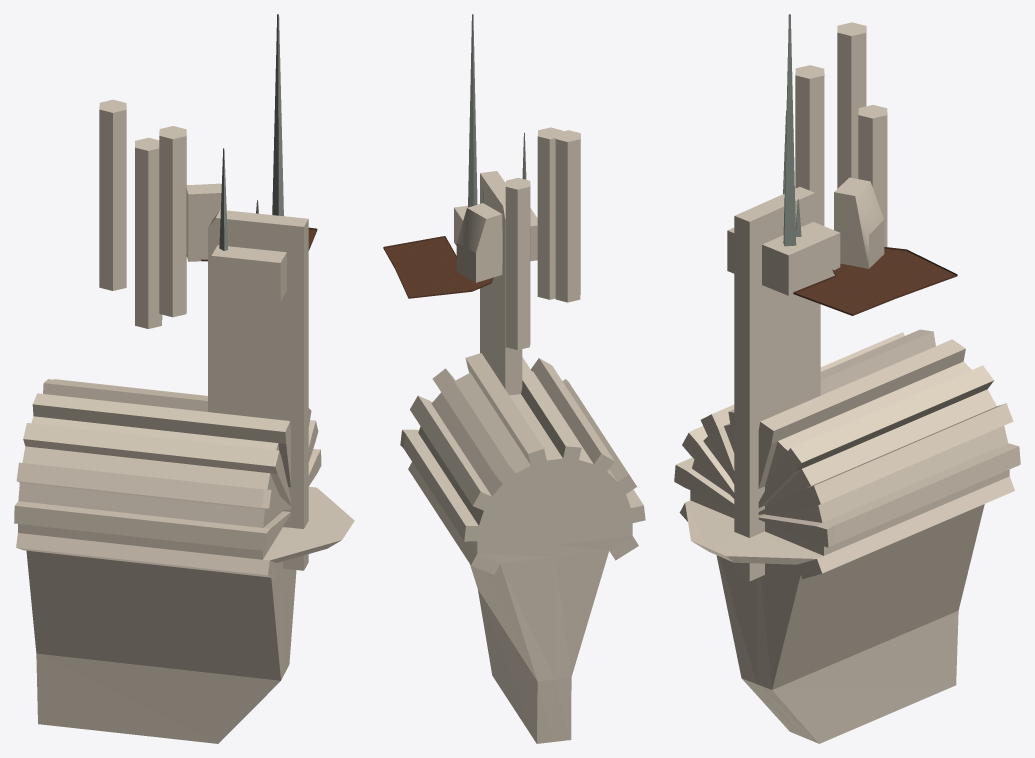
Rendered from TheRoots.fbx.
3 views of the same model, side by side, from view 1: azimuth 30°, elevation 25°; view 2: azimuth 150°, elevation 25°; view 3: azimuth 270°, elevation 25° (orthographic). The views are drawn at different scales.
Visible parts, largest first — view 1: Guild, Cube__63_, Offices, Offices__1_, Offices__2_, Cube__11_, Scrap, Cube__2_, Cube; view 2: Guild, Offices, Offices__2_, Cube__63_, Yard, Offices__1_, Scrap, Cube__2_, Cube__11_; view 3: Guild, Cube__63_, Yard, Cube__11_, Offices, Offices__1_, Scrap, Offices__2_, Cube__2_.
Part boxes in pixels (box(x1,y1,x2,y2)): Guild: box(14, 379, 354, 743); Cube__63_: box(208, 210, 308, 570); Offices: box(99, 99, 126, 290); Offices__1_: box(159, 126, 186, 317); Offices__2_: box(135, 137, 162, 328); Cube__11_: box(211, 245, 286, 301); Scrap: box(186, 183, 221, 261); Cube__2_: box(272, 14, 283, 216); Cube: box(219, 148, 228, 250); Guild: box(400, 353, 645, 743); Offices: box(555, 130, 580, 302); Offices__2_: box(505, 177, 530, 350); Cube__63_: box(480, 171, 522, 395); Yard: box(383, 236, 493, 298); Offices__1_: box(537, 127, 562, 299); Scrap: box(456, 203, 502, 282); Cube__2_: box(468, 14, 477, 207); Cube__11_: box(454, 206, 537, 264); Guild: box(674, 329, 1020, 743); Cube__63_: box(734, 187, 820, 581); Yard: box(793, 247, 957, 315); Cube__11_: box(727, 222, 840, 295); Offices: box(837, 22, 866, 188); Offices__1_: box(795, 65, 824, 225); Scrap: box(834, 177, 884, 268); Offices__2_: box(858, 105, 887, 246); Cube__2_: box(783, 14, 796, 246).
Size of the model in its own units: 1149 by 2642 by 1110.
